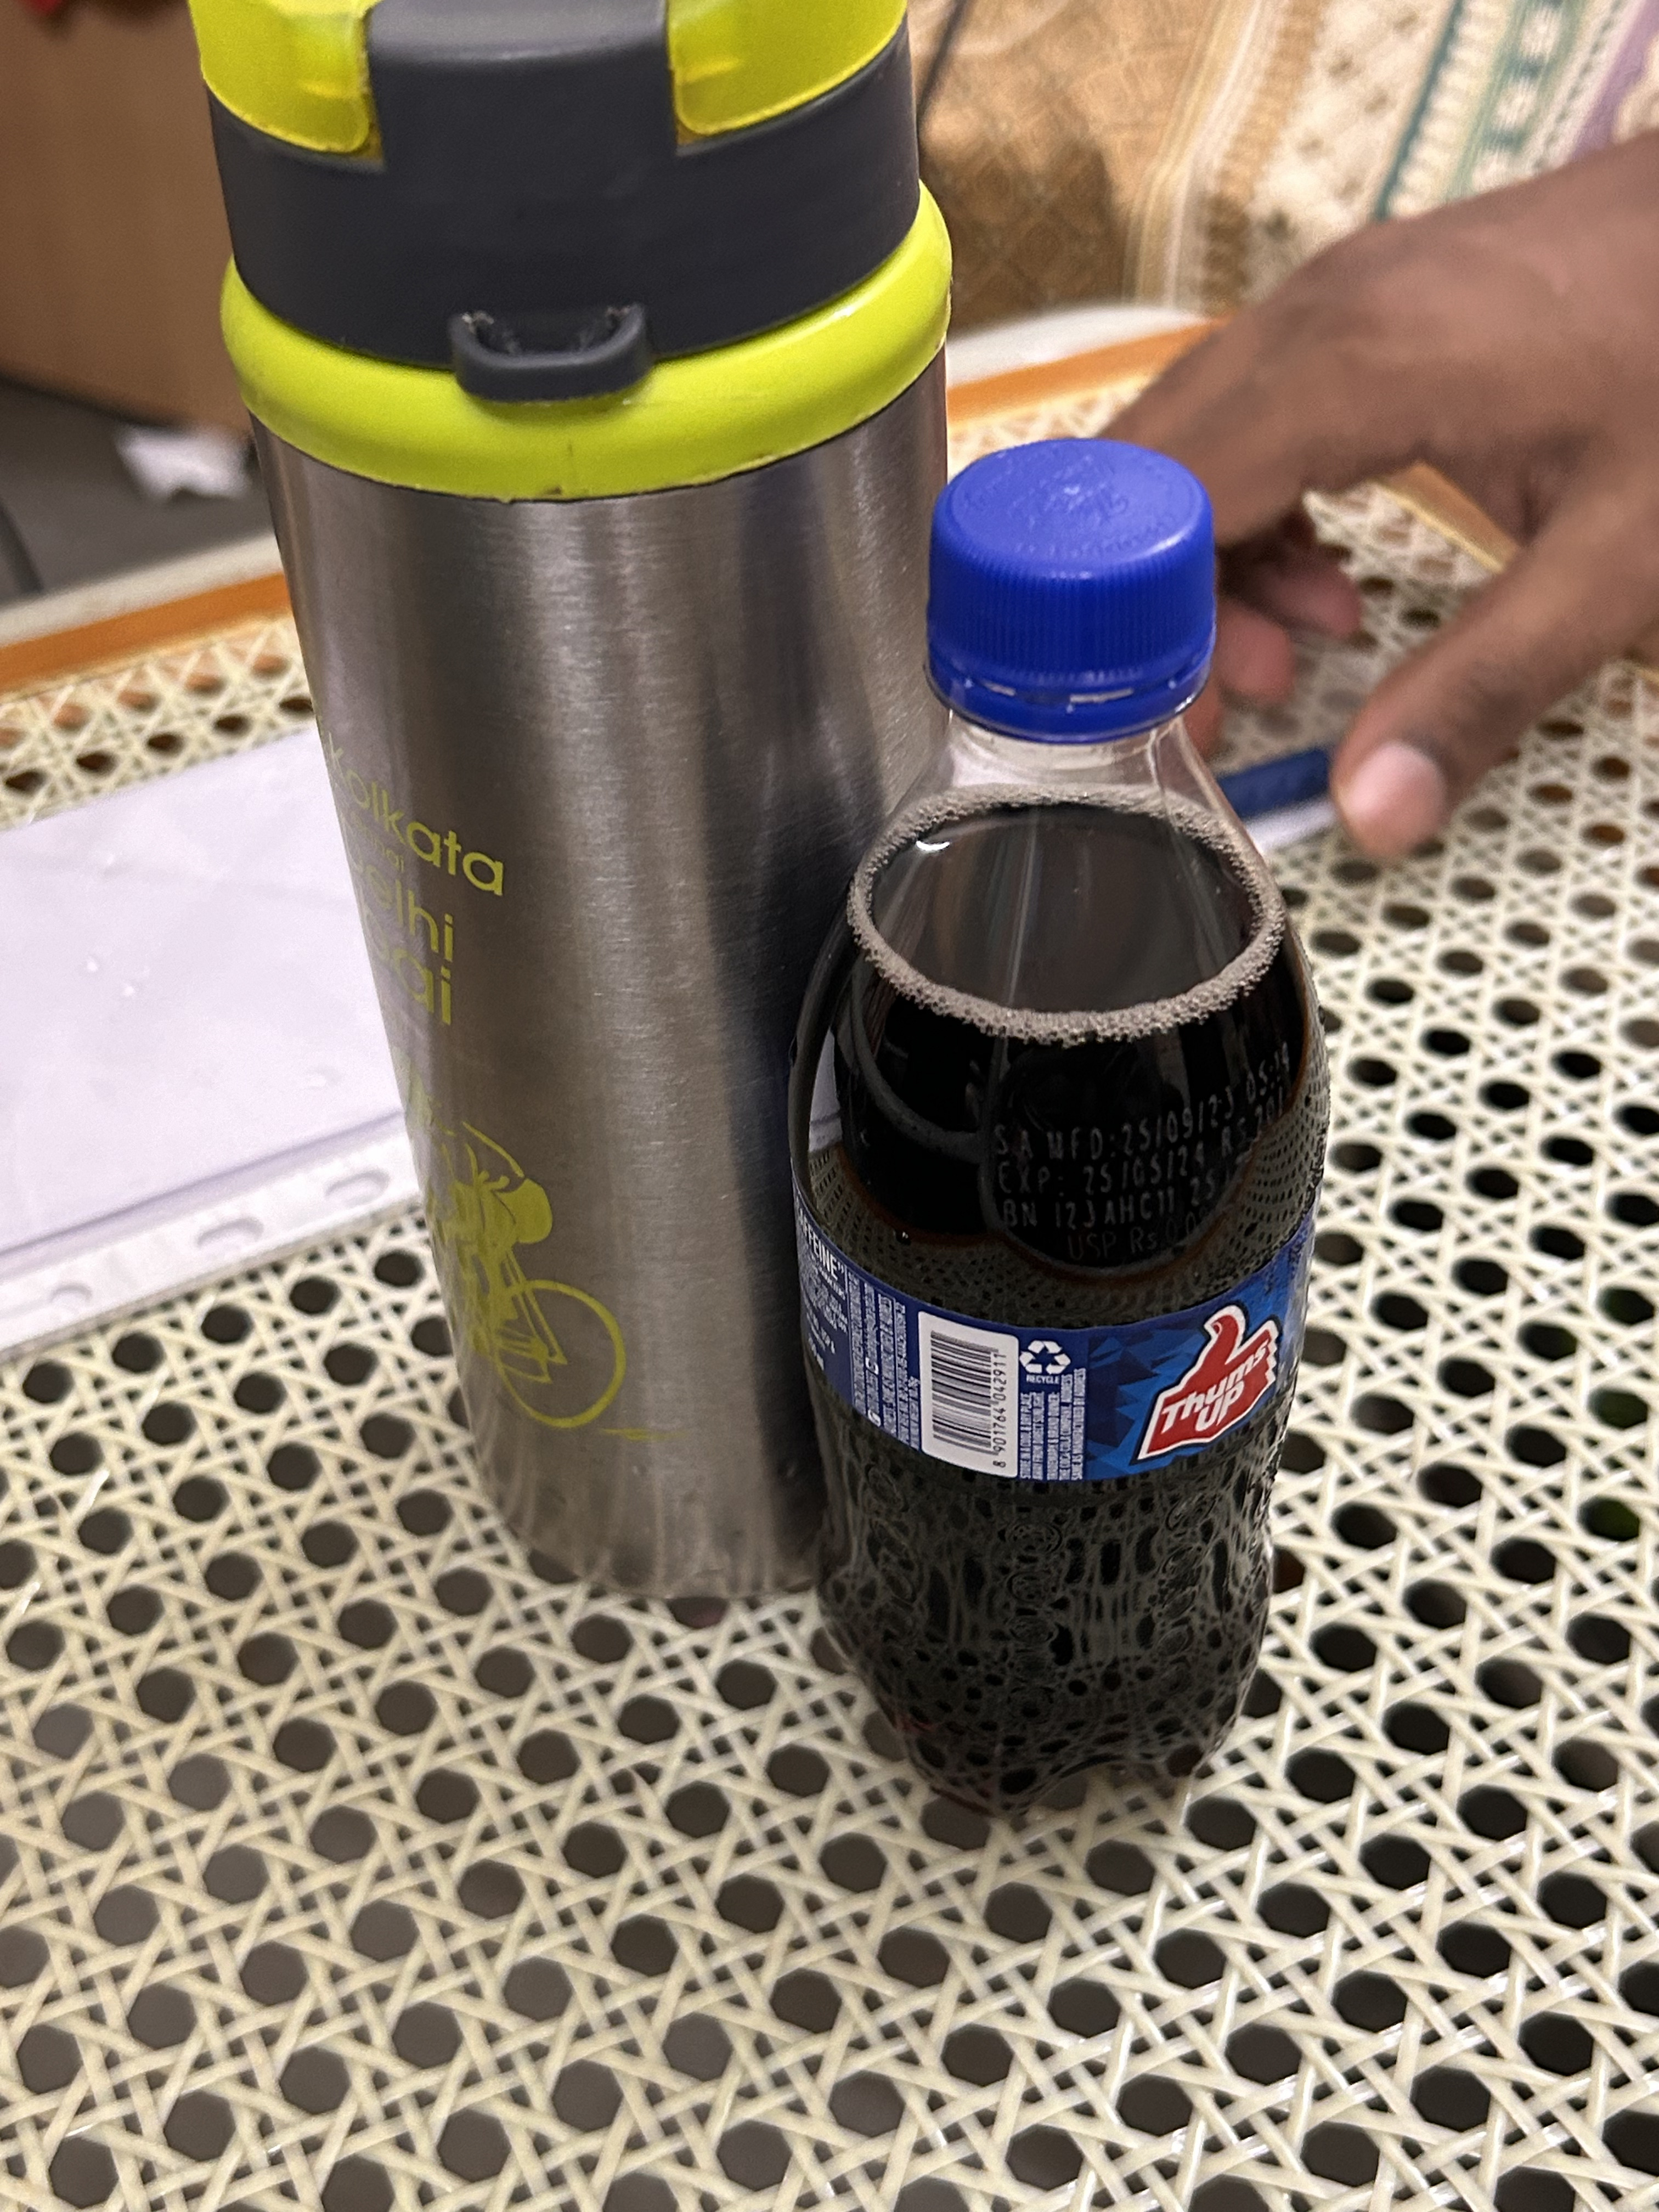unsealed: (913, 416, 1229, 765)
